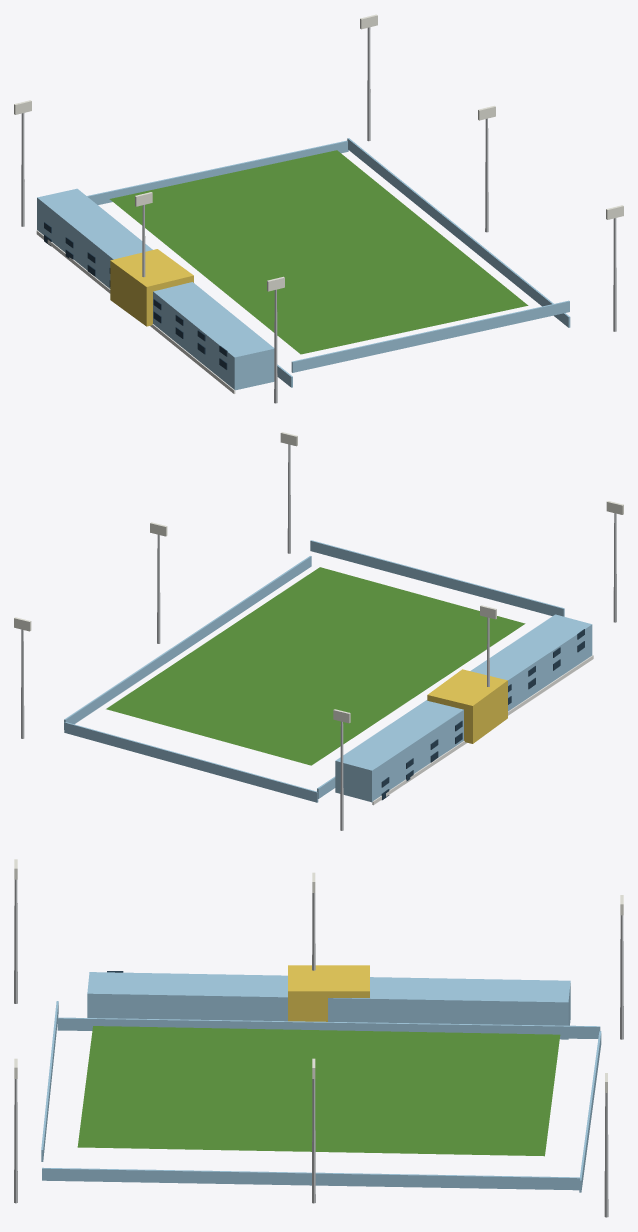
Rendered from stadion_gpt.glb.
3 renders of one model, top to bottom at view 1: azimuth 30°, elevation 25°; view 2: azimuth 150°, elevation 25°; view 3: azimuth 270°, elevation 25°, orthographic. The views are drawn at different scales.
Parts seen in each view (by area): view 1: stadion_gpt_lod0; view 2: stadion_gpt_lod0; view 3: stadion_gpt_lod0.
Boxes of the visible parts, bbox=[...] form: stadion_gpt_lod0: bbox=[14, 14, 623, 403]; stadion_gpt_lod0: bbox=[14, 432, 623, 830]; stadion_gpt_lod0: bbox=[14, 859, 623, 1217].
Size of what is drawn, in the model's own units: 94.55 by 35.7 by 119.
